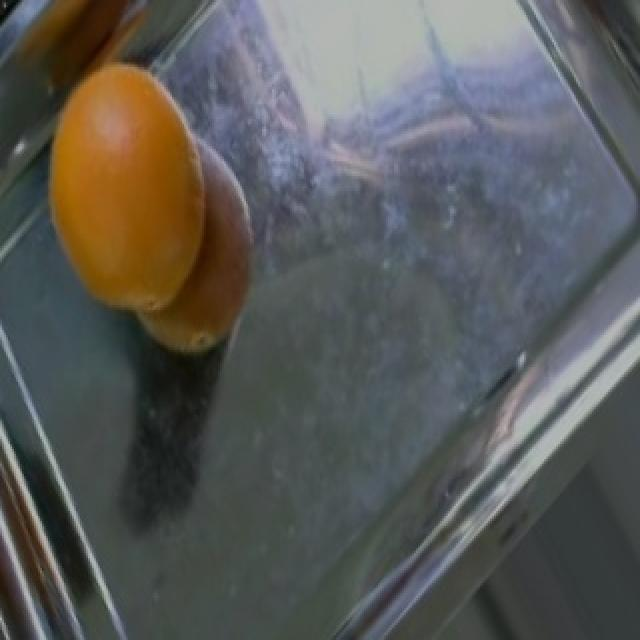Fruit: (20, 39, 232, 360)
